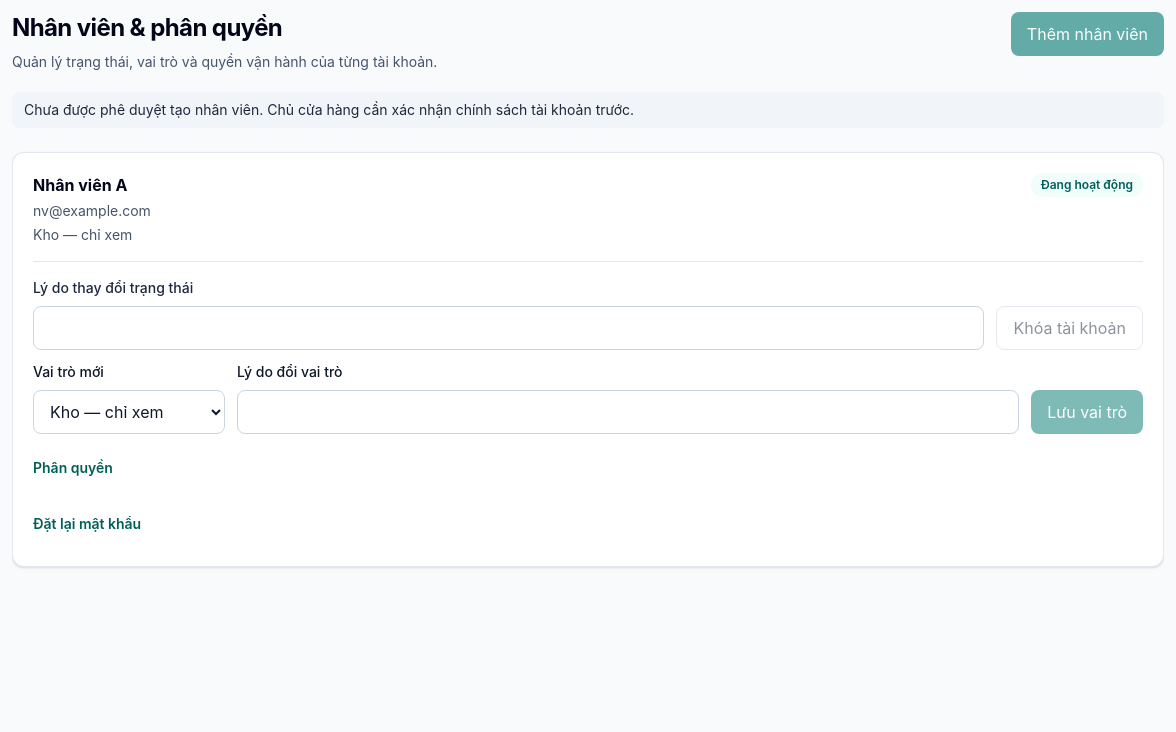
Test: shows the inventory-only role with fixed access instead of editable grants
Expected: the heading "Nhân viên A" is shown, [33,175,127,195]
Expected: the dropdown labelled "Vai trò mới" shows "Kho — chỉ xem", [33,390,225,434]
Click the heading "Phân quyền".
click(73, 468)  # box [33,459,113,476]
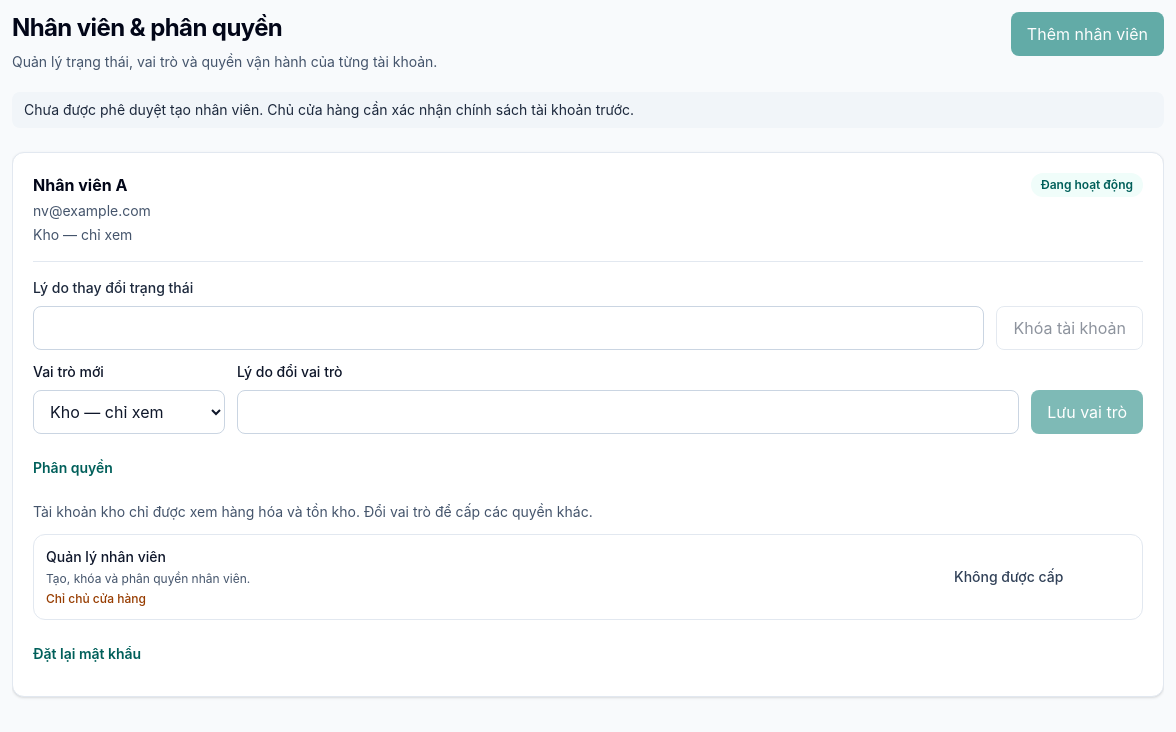
Expected: the text "Không được cấp" is shown, [954,568,1063,585]
